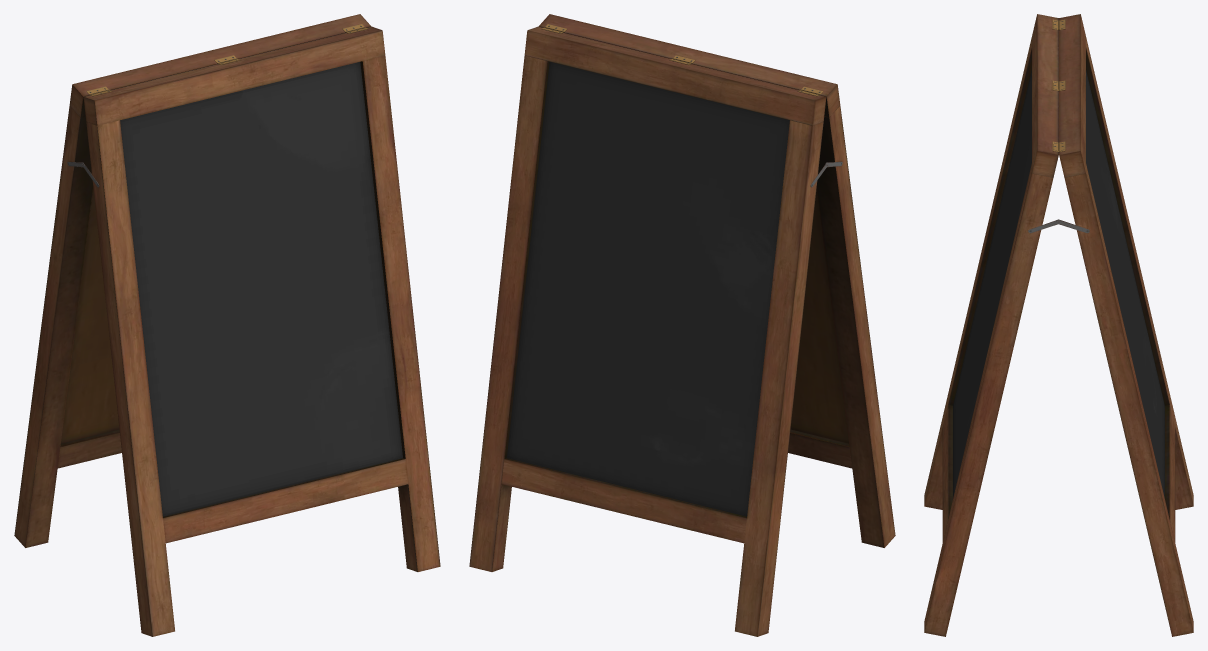
Rendered from standing_chalkboard_01.glb.
3 renders of one model, left to right at view 1: azimuth 30°, elevation 25°; view 2: azimuth 150°, elevation 25°; view 3: azimuth 270°, elevation 25°, orthographic. The views are drawn at different scales.
Visible parts, largest first — view 1: standing_chalkboard_01; view 2: standing_chalkboard_01; view 3: standing_chalkboard_01.
Part boxes in pixels (x1,y1,x2,y2): standing_chalkboard_01: (14,14,440,636); standing_chalkboard_01: (469,14,895,636); standing_chalkboard_01: (924,14,1193,636).
Size of the model in its own units: 0.9195 by 1.51 by 0.7587.
Materials: 2 (2 with a texture image).
